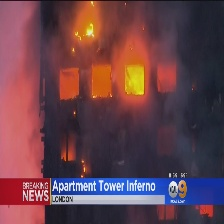fire: (71, 16, 101, 43), (126, 65, 146, 98)
